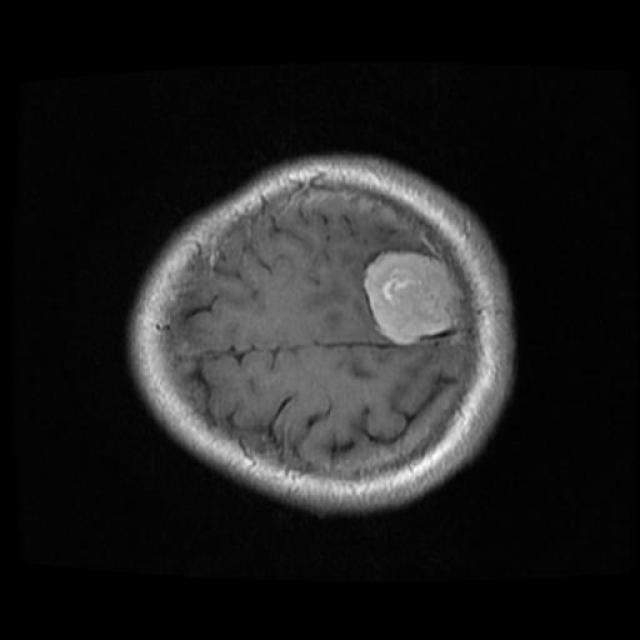Meningioma: (364, 251, 461, 345)
